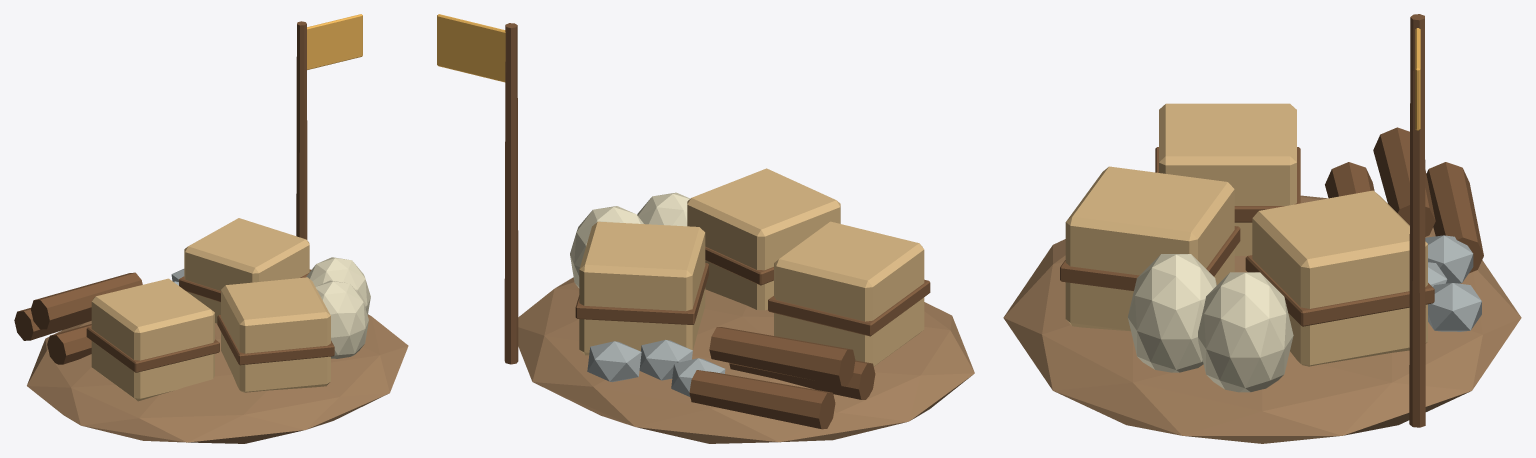
File: CC_Stockpile.fbx
3 views of the same model, side by side, from view 1: azimuth 30°, elevation 25°; view 2: azimuth 150°, elevation 25°; view 3: azimuth 270°, elevation 25° (orthographic). The views are drawn at different scales.
Visible parts, largest first — view 1: Dirt mound, Crate, Crate.002, Crate.001, Grain sack, Log.001, Marker pole, Marker cloth, Crate band, Crate band.002, Grain sack.001, Log (+2 smaller); view 2: Dirt mound, Crate, Crate.001, Crate.002, Log.002, Log.001, Marker pole, Marker cloth, Crate band, Crate band.001, Log, Stone pile.002 (+5 smaller); view 3: Dirt mound, Crate.001, Crate.002, Crate, Grain sack.001, Grain sack, Marker pole, Log.002, Log.001, Crate band.001, Stone pile.002, Crate band.002 (+4 smaller).
Boxes of the visible parts, x1,y1,x2,y2 form: Dirt mound: (27, 314, 408, 443); Crate: (91, 278, 214, 401); Crate.002: (221, 277, 330, 392); Crate.001: (184, 218, 309, 323); Grain sack: (315, 280, 368, 358); Log.001: (30, 272, 142, 329); Marker pole: (296, 21, 307, 239); Marker cloth: (307, 14, 362, 69); Crate band: (86, 326, 219, 372); Crate band.002: (217, 315, 334, 365); Grain sack.001: (306, 257, 370, 315); Log: (47, 324, 91, 364); Dirt mound: (518, 277, 974, 443); Crate: (774, 221, 924, 366); Crate.001: (579, 221, 705, 355); Crate.002: (687, 168, 840, 310); Log.002: (689, 370, 835, 429); Log.001: (709, 327, 855, 385); Marker pole: (504, 23, 518, 364); Marker cloth: (437, 14, 505, 82); Crate band: (768, 279, 930, 336); Crate band.001: (575, 263, 708, 324); Log: (729, 360, 875, 399); Stone pile.002: (587, 341, 641, 382); Dirt mound: (1003, 195, 1521, 443); Crate.001: (1252, 190, 1427, 366); Crate.002: (1065, 166, 1234, 331); Crate: (1159, 103, 1296, 255); Grain sack.001: (1198, 272, 1293, 392); Grain sack: (1127, 254, 1216, 372); Marker pole: (1409, 14, 1425, 427); Log.002: (1426, 162, 1483, 273); Log.001: (1373, 127, 1435, 236); Crate band.001: (1245, 255, 1434, 326); Stone pile.002: (1428, 283, 1481, 331); Crate band.002: (1060, 226, 1240, 290).
Bounding box in the file's own units: 3.57 × 2.8 × 3.
